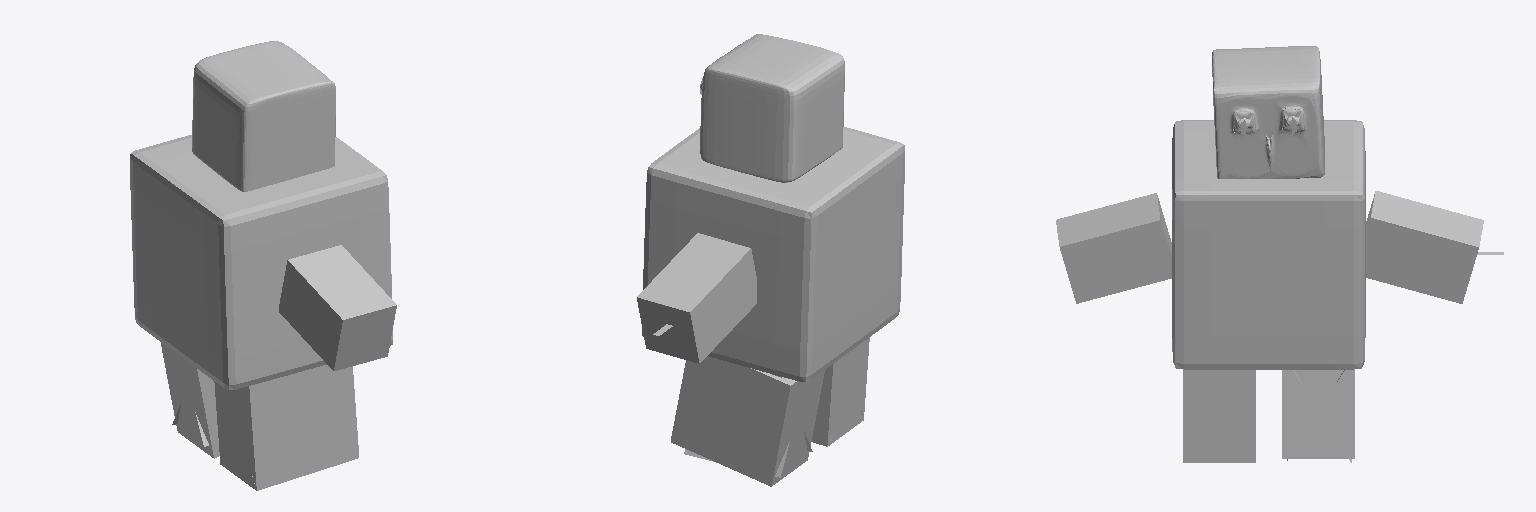
The picture shows the model from 3 angles: view 1: azimuth 30°, elevation 25°; view 2: azimuth 150°, elevation 25°; view 3: azimuth 270°, elevation 25°; orthographic projection.
Visible parts, largest first — view 1: Cube_Cube.001, Cube.001_Cube.002, CollisionLL_Cube.003, Cube.005_Cube.007, Cube.003_Cube.004; view 2: Cube_Cube.001, Cube.001_Cube.002, Cube.003_Cube.004, Cube.004_Cube.005, CollisionLL_Cube.003; view 3: Cube_Cube.001, Cube.001_Cube.002, Cube.004_Cube.005, Cube.005_Cube.007, CollisionLL_Cube.003, Cube.003_Cube.004.
Part boxes in pixels (x1,y1,x2,y2): Cube_Cube.001: (130,135,392,389); Cube.001_Cube.002: (192,41,335,191); CollisionLL_Cube.003: (214,365,358,490); Cube.005_Cube.007: (279,245,396,370); Cube.003_Cube.004: (161,342,219,458); Cube_Cube.001: (642,127,904,381); Cube.001_Cube.002: (700,34,844,182); Cube.003_Cube.004: (671,356,824,486); Cube.004_Cube.005: (637,233,756,363); CollisionLL_Cube.003: (812,337,869,446); Cube_Cube.001: (1172,120,1365,369); Cube.001_Cube.002: (1212,46,1324,178); Cube.004_Cube.005: (1366,191,1483,303); Cube.005_Cube.007: (1056,193,1171,303); CollisionLL_Cube.003: (1183,369,1255,462); Cube.003_Cube.004: (1282,369,1354,458).
Size of the model in its own units: 1.5 by 3.21 by 3.37.